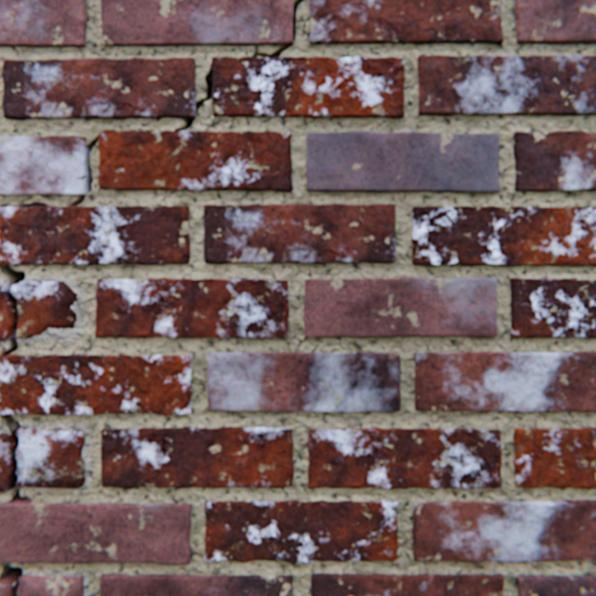brick: (205, 499, 397, 562), (0, 500, 191, 563), (307, 427, 501, 488), (99, 131, 292, 192), (4, 59, 196, 120), (102, 426, 293, 487), (211, 58, 403, 118), (306, 132, 498, 192), (96, 278, 288, 338), (0, 354, 191, 414), (207, 352, 400, 411), (412, 499, 595, 561), (304, 277, 496, 336), (204, 204, 395, 263), (0, 206, 190, 265), (411, 206, 595, 266), (414, 351, 595, 411), (417, 56, 595, 116), (102, 0, 293, 47), (309, 0, 502, 45), (509, 278, 595, 338), (0, 136, 87, 195), (512, 427, 595, 487), (512, 132, 595, 191), (311, 572, 502, 595), (101, 572, 292, 595), (0, 0, 87, 48), (514, 0, 595, 44), (516, 573, 595, 595)
broken_brick: (0, 426, 85, 490), (12, 281, 78, 337), (18, 573, 84, 595), (0, 285, 15, 341), (0, 579, 14, 595)
crack: (2, 413, 32, 501), (1, 264, 26, 354), (146, 433, 182, 458), (0, 560, 23, 595), (196, 69, 213, 116), (88, 136, 99, 193), (252, 46, 290, 58), (293, 0, 304, 41), (143, 458, 161, 482), (352, 462, 369, 487), (123, 291, 165, 301), (104, 146, 132, 161), (1, 221, 49, 229), (335, 442, 377, 451), (519, 445, 538, 459), (176, 118, 195, 131), (139, 322, 154, 337), (154, 304, 168, 320), (123, 103, 145, 111), (423, 29, 448, 36), (71, 195, 86, 206), (324, 249, 345, 256), (23, 202, 49, 207), (371, 454, 380, 462), (76, 175, 86, 180), (586, 543, 595, 548)
